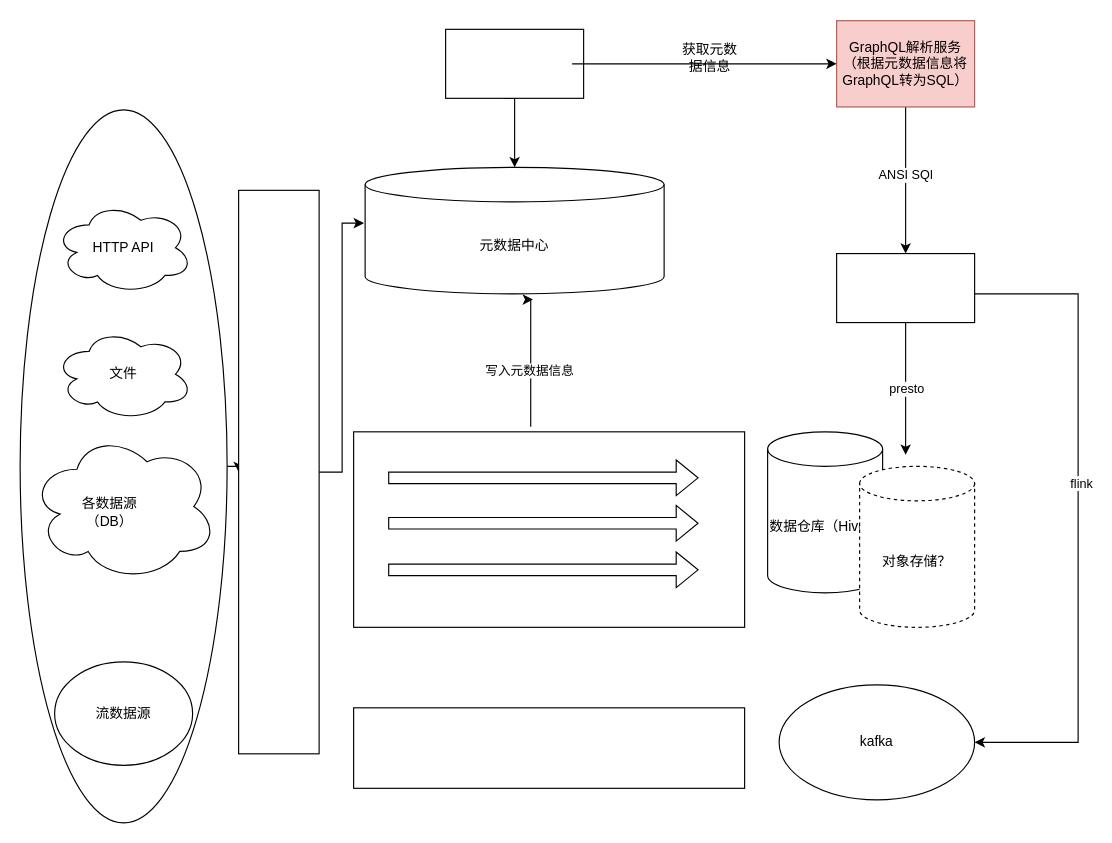
Image size: 1112x843. Some labels were removed from this diagram. Here are the shapes that lost their labels. From the top down, the centre of each, then its label:
At pixel 514 63: "元数据服务".
At pixel 905 287: "查询引擎".
At pixel 278 471: "数据接入服务".
At pixel 548 529: "建立定时同步任务".
At pixel 548 747: "开启实时同步任务".
